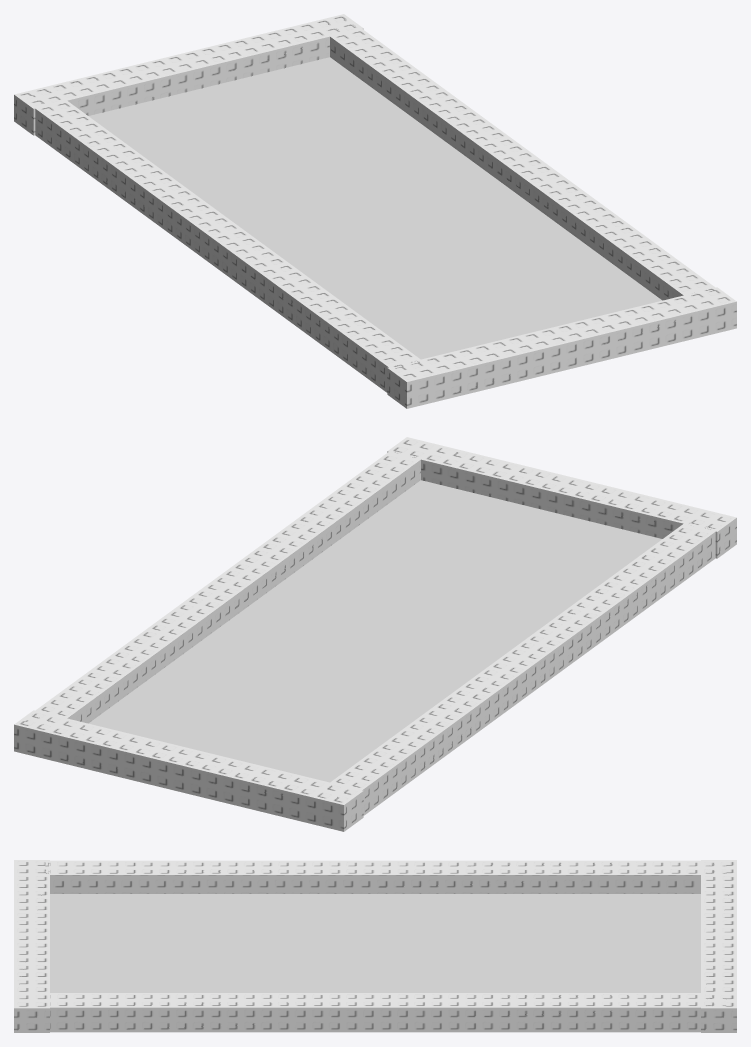
Rendered from SM_Farm.fbx.
3 renders of one model, top to bottom at view 1: azimuth 30°, elevation 25°; view 2: azimuth 150°, elevation 25°; view 3: azimuth 270°, elevation 25°, orthographic. The views are drawn at different scales.
Parts seen in each view (by area): view 1: Cube; view 2: Cube; view 3: Cube.
Boxes of the visible parts, left/top/right/bottom form: Cube: left=14, top=14, right=736, bottom=408; Cube: left=14, top=437, right=736, bottom=831; Cube: left=14, top=860, right=736, bottom=1032.
Bounding box in the file's own units: 515 × 40 × 1062.
